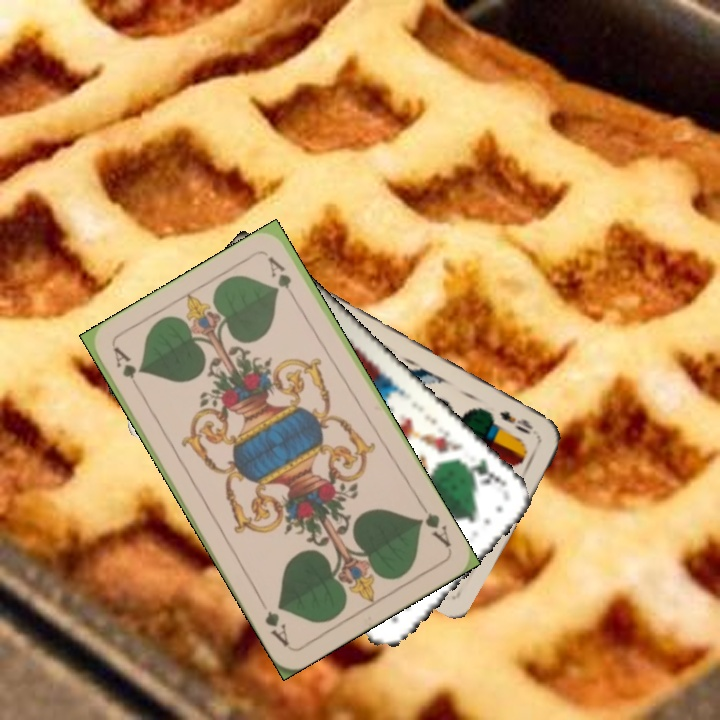EO: (495, 407, 536, 438)
GA: (413, 499, 454, 551), (109, 342, 144, 397)
GK: (457, 454, 509, 490)
